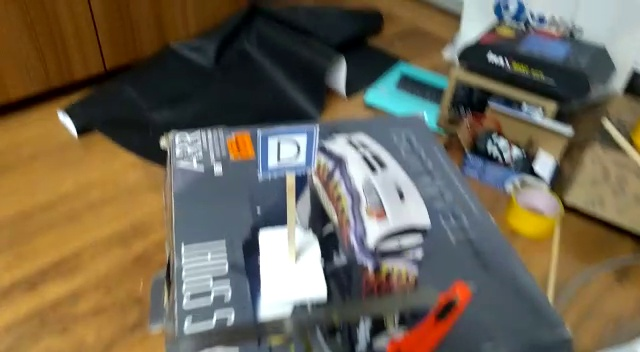durak: (255, 129, 320, 177)
